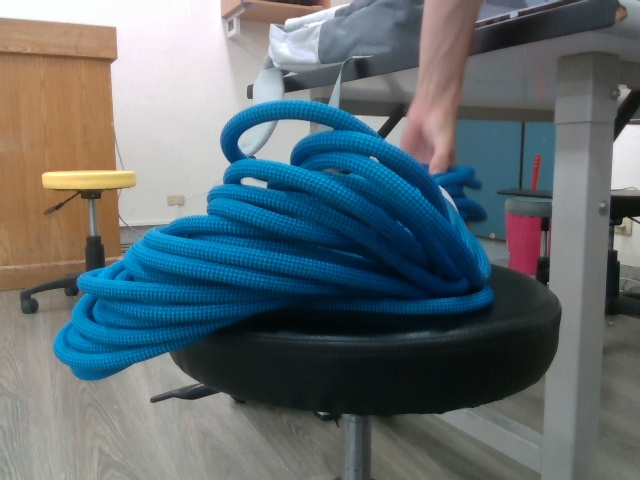rope: (50, 97, 499, 386)
